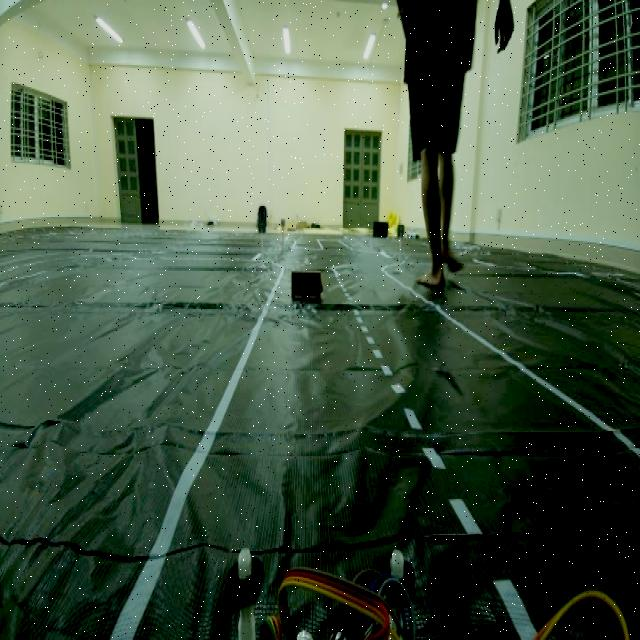roadblock: (289, 266, 323, 304)
